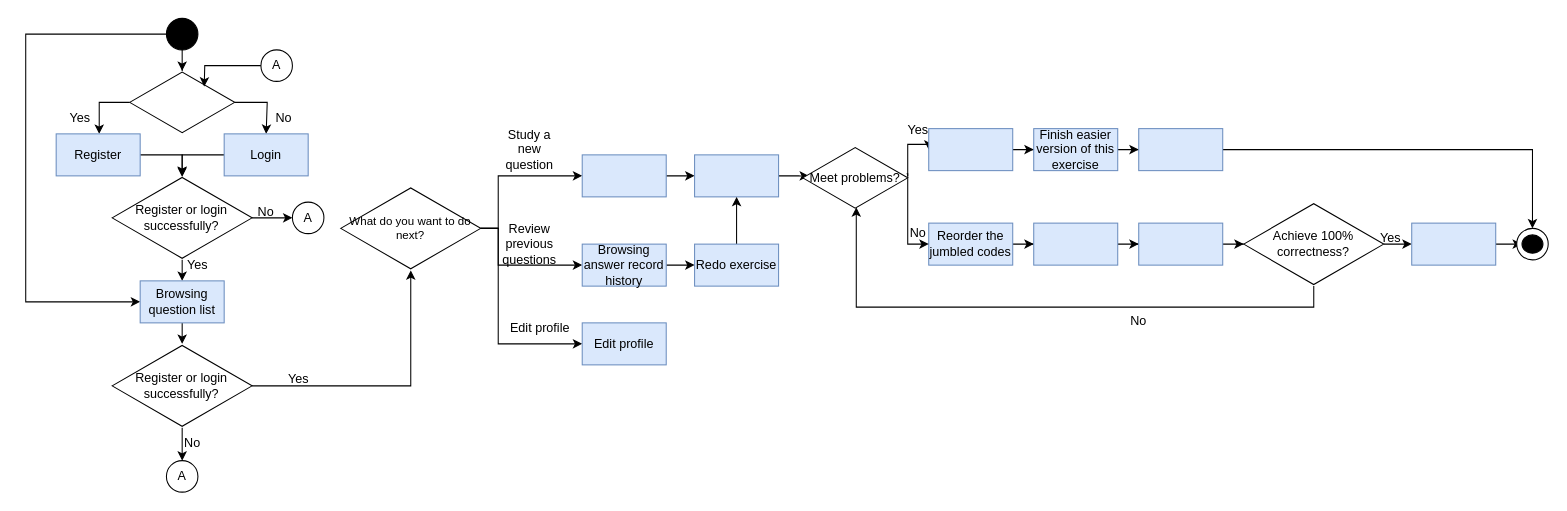
This 1567x511 diagram has some shape labels left out. The shapes that lost their labels are listed below. From the top down, each one's centre as x and y in pixels, then its label:
the point at 182,102: Is new user?
the point at 970,149: Do easier version of this exercise
the point at 1180,149: Finish the original exercise
the point at 623,175: Select a question
the point at 736,175: View exercise detail
the point at 1075,243: Check the answer
the point at 1180,243: Get feedback
the point at 1453,243: Finish the exercise
